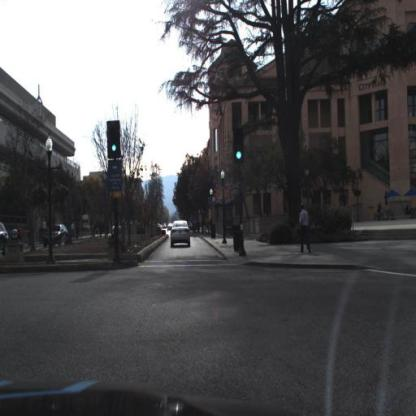car: (42, 220, 70, 248), (170, 219, 193, 249)
pedestrian: (298, 204, 313, 256), (17, 224, 26, 246), (377, 200, 383, 222)
trafficLight-Green: (107, 121, 122, 161), (234, 131, 246, 168)
